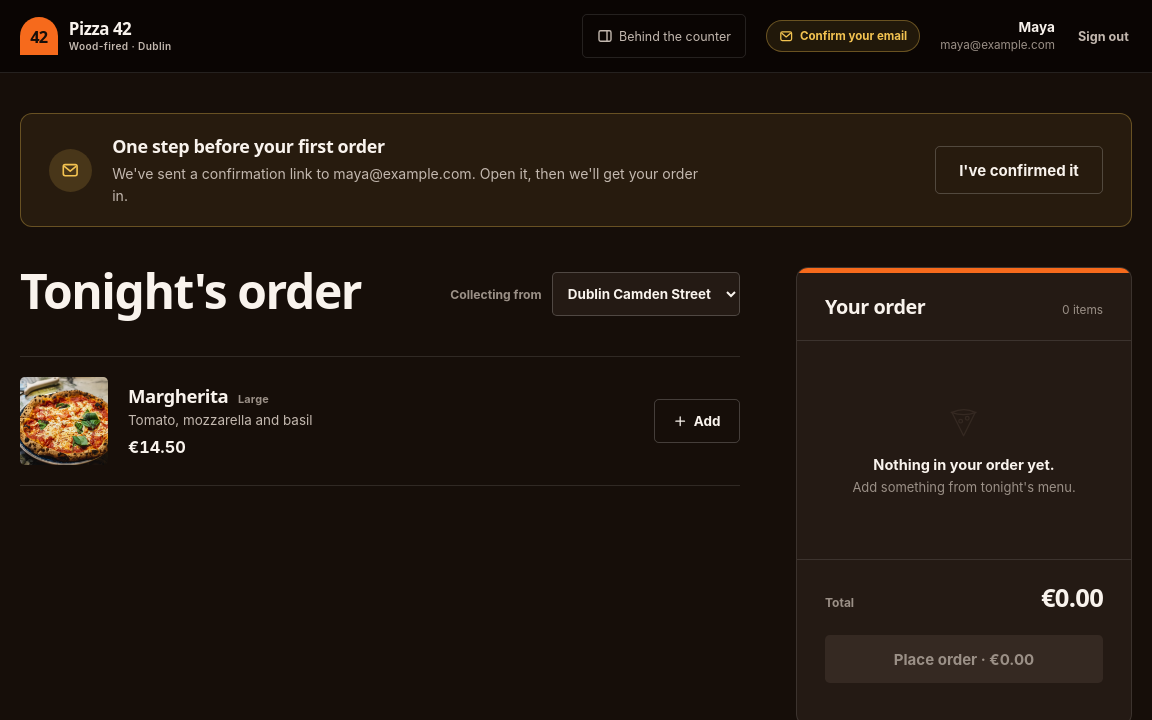
Test case: Pizza 42 ordering experience › tells the customer what happened when the address is still unconfirmed
What coordinates should you click on to do the following:
click the button "I've confirmed it"
I would click on:
 (1019, 170)
Its box is x1=935 y1=146 x2=1103 y2=194.
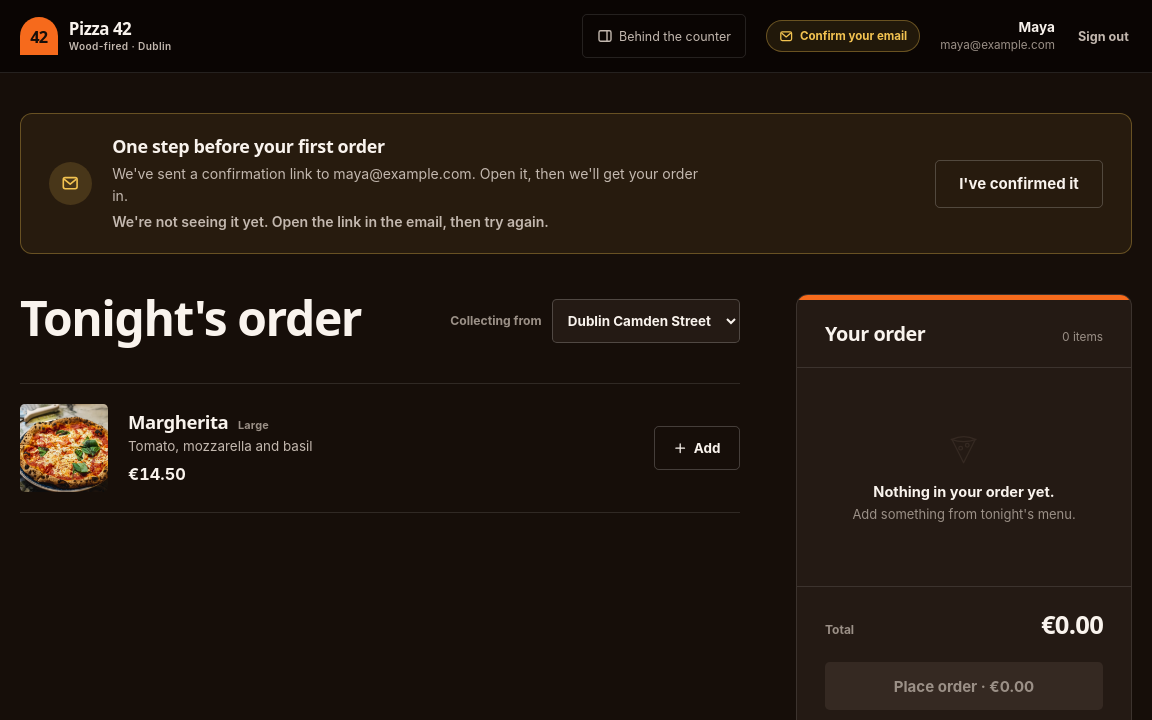
Expected: the button "I've confirmed it" is enabled, x1=935 y1=160 x2=1103 y2=208
Now the text "We're not seeing it yet. Open the link in the email, then try again." is shown, box x1=112 y1=213 x2=549 y2=230
